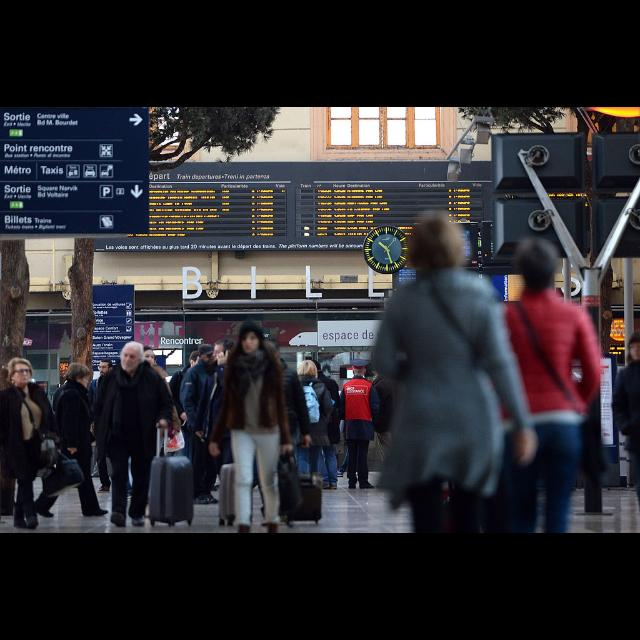head: (514, 237, 560, 289), (415, 218, 461, 264), (119, 341, 145, 371), (212, 338, 238, 368), (239, 322, 263, 354), (256, 337, 280, 368), (7, 358, 31, 386), (69, 364, 91, 390), (136, 346, 156, 372), (188, 350, 208, 372), (199, 344, 217, 366), (98, 360, 114, 380), (300, 360, 316, 376), (306, 360, 322, 376), (353, 362, 367, 376), (379, 362, 393, 376)
person: (90, 340, 174, 528), (30, 360, 110, 522), (247, 333, 313, 519), (118, 343, 180, 517), (0, 356, 60, 532), (191, 337, 249, 508), (178, 341, 228, 507), (167, 349, 220, 499), (84, 357, 136, 501), (333, 356, 383, 492), (288, 356, 332, 492), (306, 357, 344, 493), (364, 357, 398, 491)
